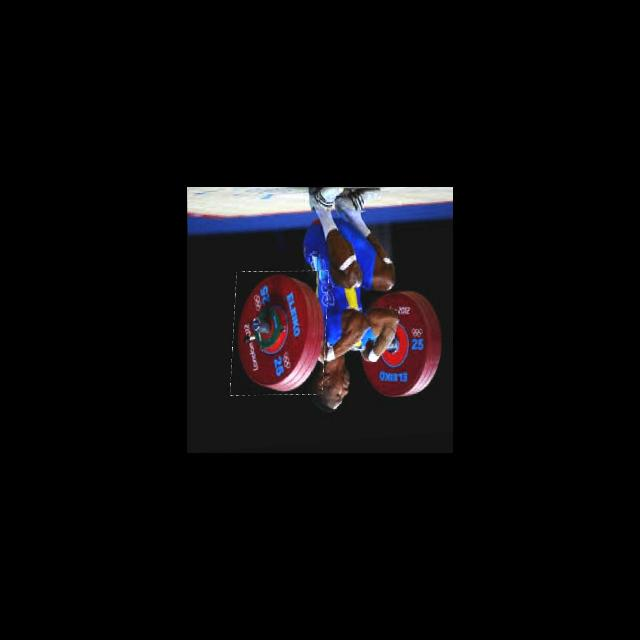barbell: (230, 268, 328, 401)
